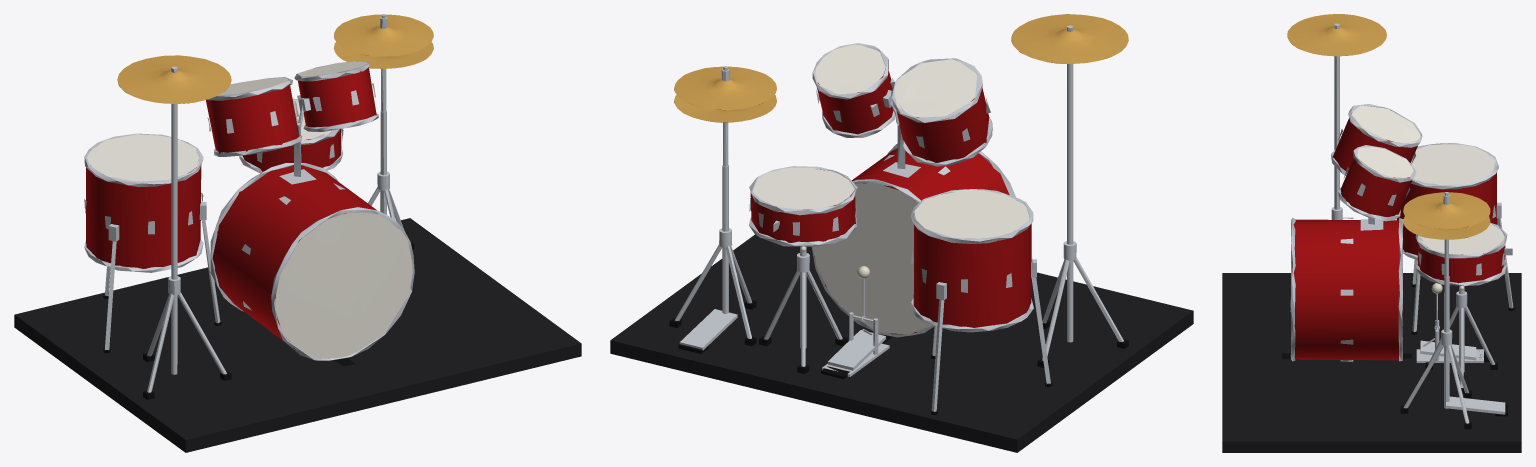
Rendered from drums.glb.
The picture shows the model from 3 angles, left to right: view 1: azimuth 30°, elevation 25°; view 2: azimuth 150°, elevation 25°; view 3: azimuth 270°, elevation 25°; orthographic projection. The views are drawn at different scales.
Visible parts, largest first — view 1: platform, bass_drum, floor_tom, tom_rack_b, crash_cymbal, crash_stand, hihat_top_cymbal, hihat_stand, snare_drum; view 2: platform, bass_drum, floor_tom, tom_rack_b, snare_drum, hihat_stand, crash_cymbal, hihat_top_cymbal, crash_stand, snare_stand; view 3: platform, bass_drum, floor_tom, snare_drum, hihat_stand, tom_rack_b, crash_cymbal, hihat_top_cymbal, snare_stand, crash_stand.
Boxes of the visible parts, x1,y1,x2,y2 form: platform: (14,218,581,452); bass_drum: (210,61,414,366); floor_tom: (84,133,221,353); tom_rack_b: (206,77,302,156); crash_cymbal: (117,55,231,103); crash_stand: (143,73,231,399); hihat_top_cymbal: (334,14,433,56); hihat_stand: (333,42,433,284); snare_drum: (239,98,343,173); platform: (610,234,1193,452); bass_drum: (811,43,1016,343); floor_tom: (911,189,1052,414); tom_rack_b: (891,58,992,166); snare_drum: (749,166,857,246); hihat_stand: (669,94,776,353); crash_cymbal: (1011,14,1128,63); hihat_top_cymbal: (674,66,776,110); crash_stand: (1037,64,1128,367); snare_stand: (759,246,847,373); platform: (1222,273,1521,452); bass_drum: (1282,145,1416,361); floor_tom: (1396,143,1514,334); snare_drum: (1415,222,1512,285); hihat_stand: (1400,216,1507,429); tom_rack_b: (1331,104,1422,175); crash_cymbal: (1287,14,1386,56); hihat_top_cymbal: (1403,192,1490,229); snare_stand: (1425,285,1497,393); crash_stand: (1331,56,1342,219).
Bounding box in the file's own units: 1.6 × 1.25 × 1.2.
